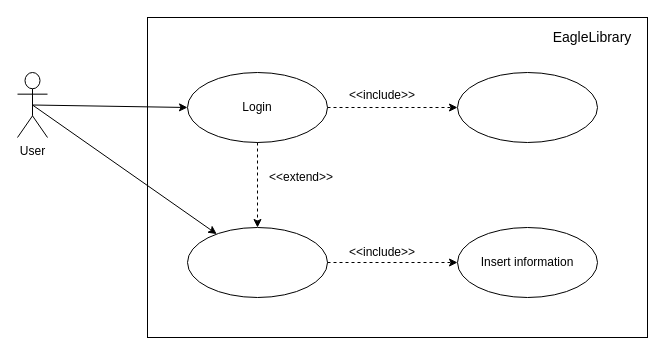
Image size: 665x355. Some labels were removed from this diagram. Each missing label, with the box of its shape:
Insert username and password: (456, 72, 598, 142)
Registration: (186, 226, 328, 298)
